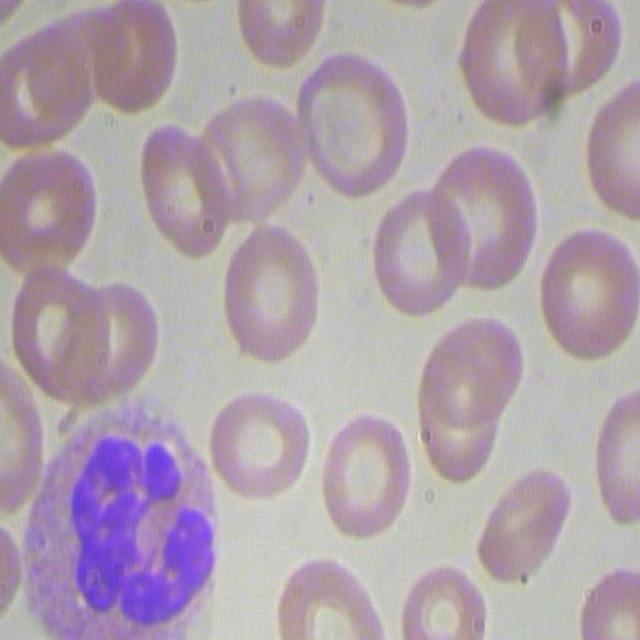RBC: (411, 305, 517, 487), (291, 50, 413, 208), (430, 134, 540, 298), (220, 221, 322, 365), (532, 224, 638, 362), (455, 0, 564, 127), (141, 122, 238, 264), (0, 135, 100, 271), (207, 382, 314, 507), (205, 86, 304, 220), (2, 8, 96, 148), (373, 183, 469, 318), (316, 404, 411, 540), (11, 270, 95, 415), (76, 0, 180, 117), (477, 472, 570, 584), (59, 285, 159, 387), (275, 556, 389, 640), (539, 1, 623, 103), (586, 78, 640, 218), (0, 358, 43, 530), (395, 562, 489, 640), (592, 386, 640, 525), (234, 0, 326, 70), (574, 560, 640, 640)
WBC: (63, 398, 221, 639)
